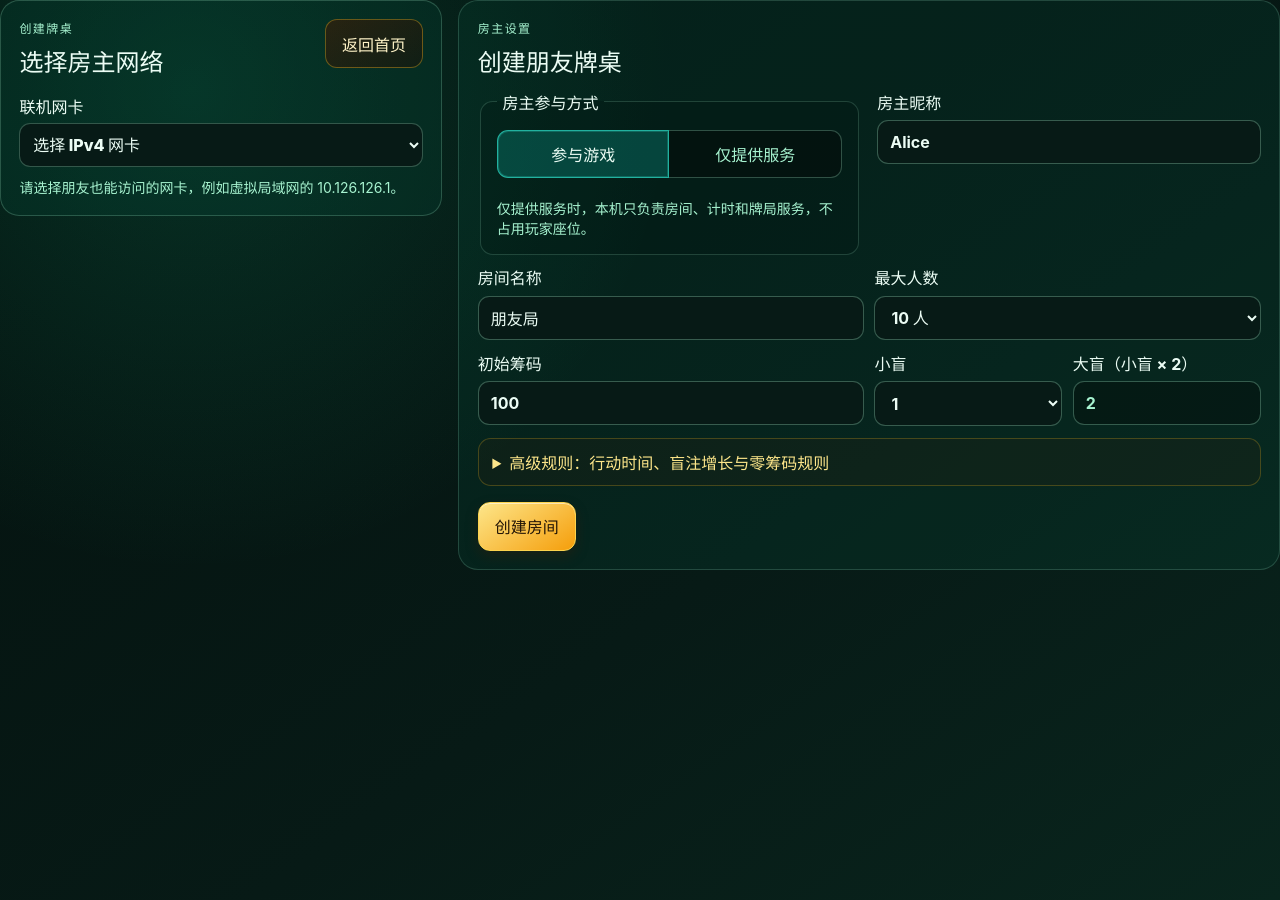
Test: DesktopRoomSetup › keeps the conflict open with a Chinese error when stopping the host fails
Select "Virtual LAN · 10.126.126.1" in the dropdown labelled "联机网卡" at coordinates (221, 145), box [19, 123, 423, 167]
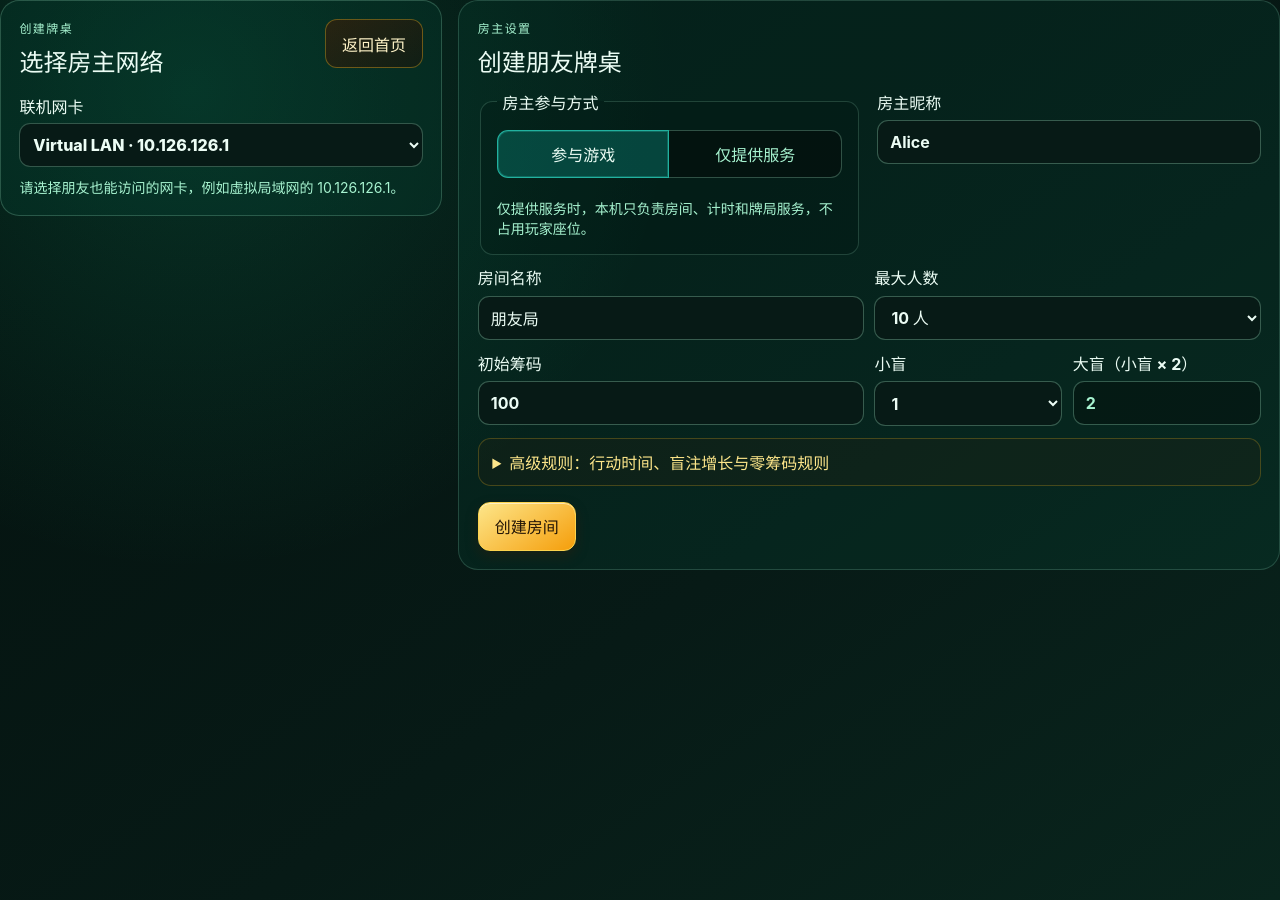
Click the button "创建房间" at coordinates (527, 526), box [478, 502, 576, 551]
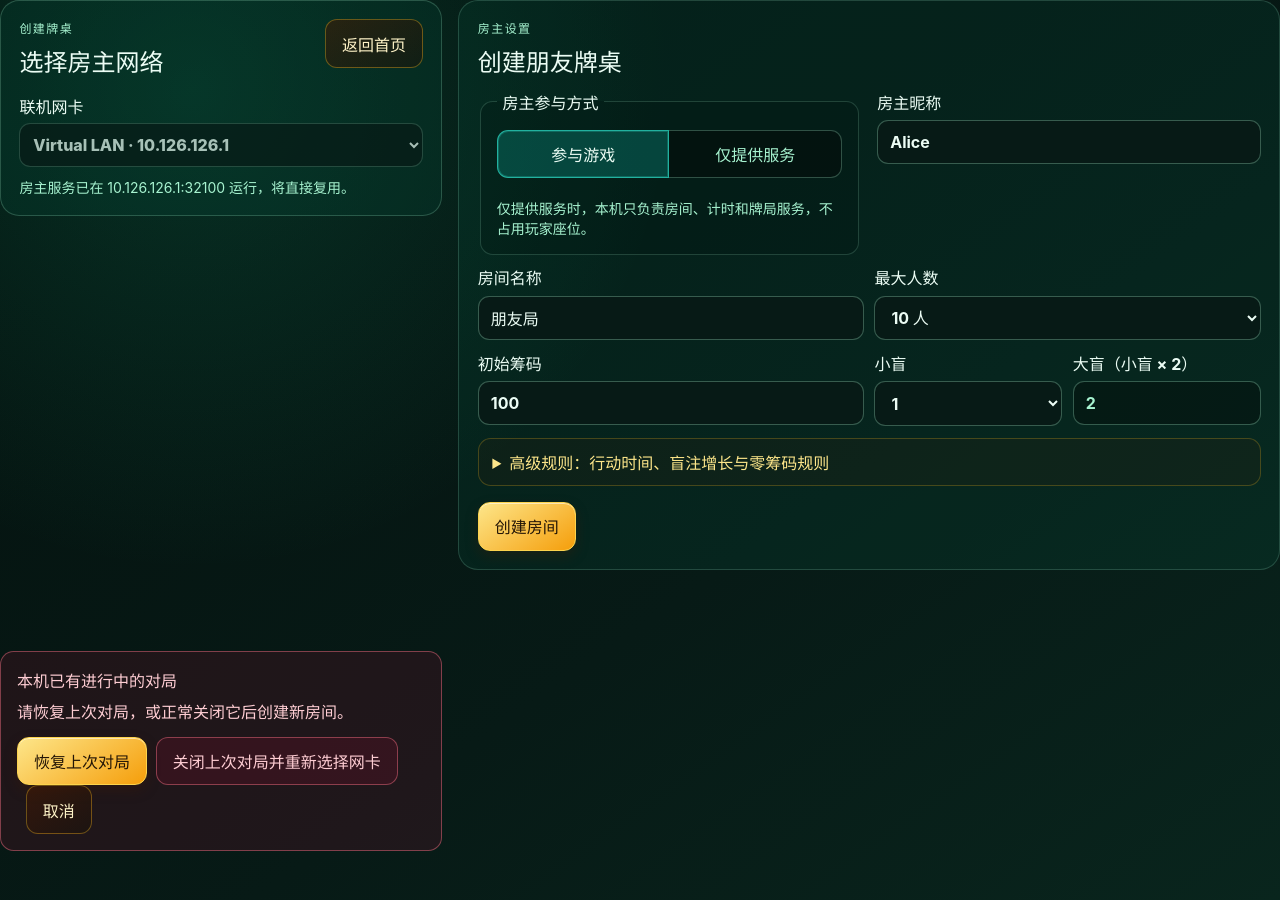
Check: the dialog "本机已有进行中的对局" is shown, box [0, 651, 442, 851]
Click the button "关闭上次对局并重新选择网卡" at coordinates (277, 761), box [156, 737, 398, 785]
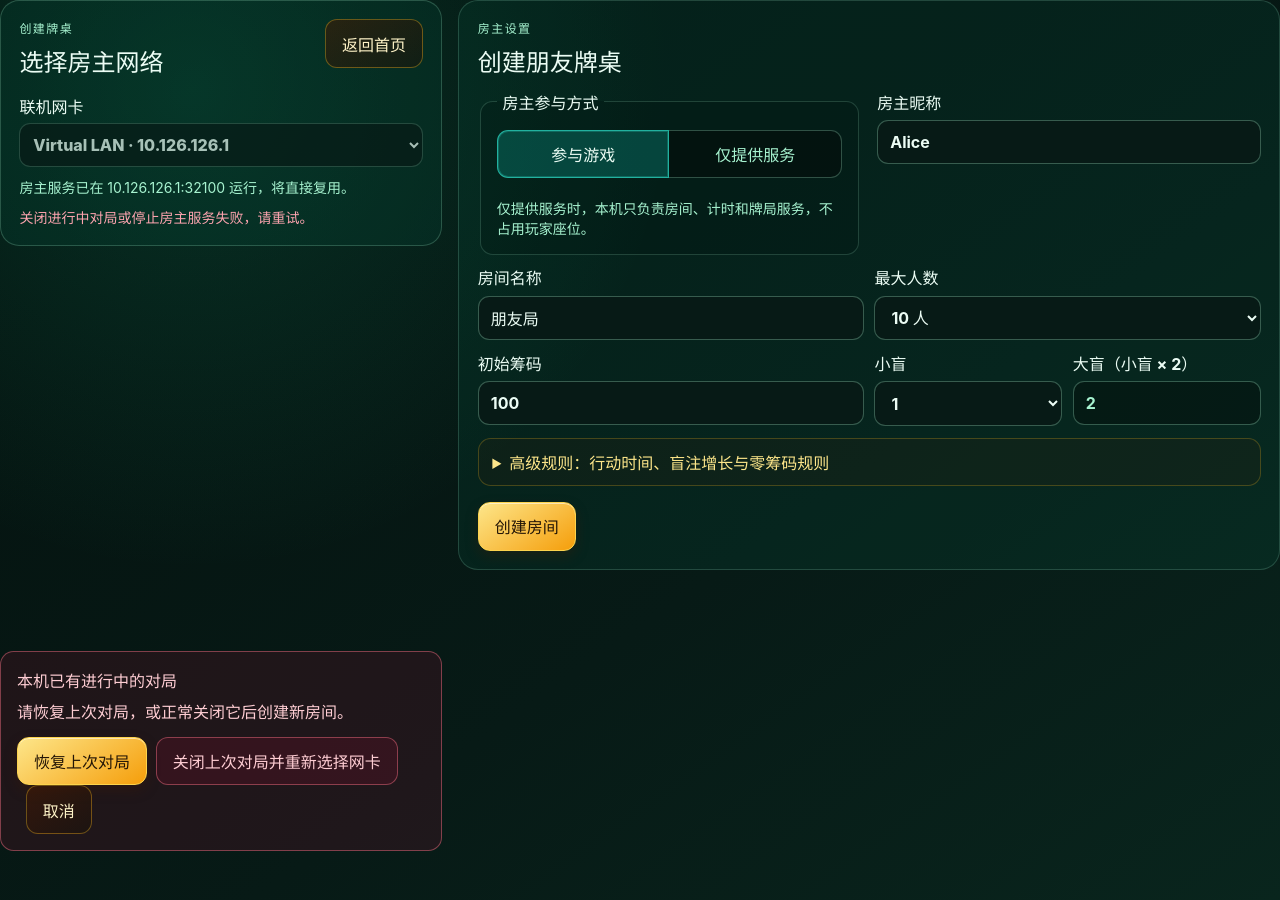
Check: the dialog "本机已有进行中的对局" is shown, box [0, 651, 442, 851]
Check: the text "关闭进行中对局或停止房主服务失败，请重试。" is shown, box [19, 209, 313, 226]
